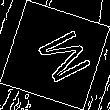M_SW: (22, 23, 88, 87)
